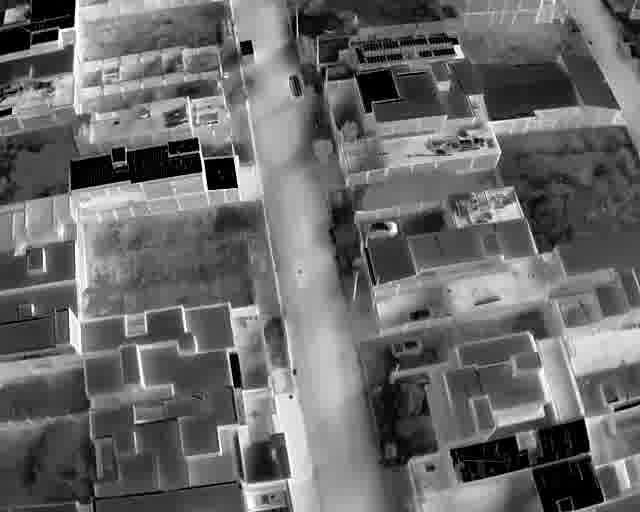car: (365, 221, 398, 239), (392, 338, 422, 355), (406, 305, 434, 321), (288, 74, 303, 98)
